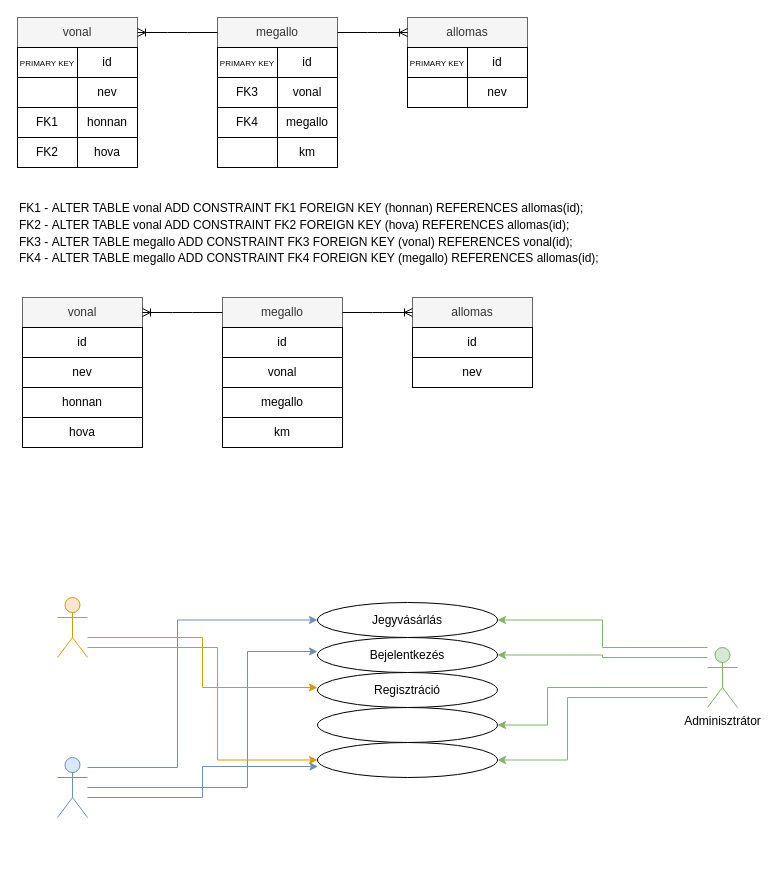
Image size: 778x871. Some labels were removed from this diagram. The shapes that lost their labels are listed below. From the top down, each one's centre as x and y in pixels, then its label:
(72,627): Nem-regisztrált felhasználó
(407,724): Hír közzététele
(407,760): Hír elolvasása
(72,787): Regisztrált felhasználó
